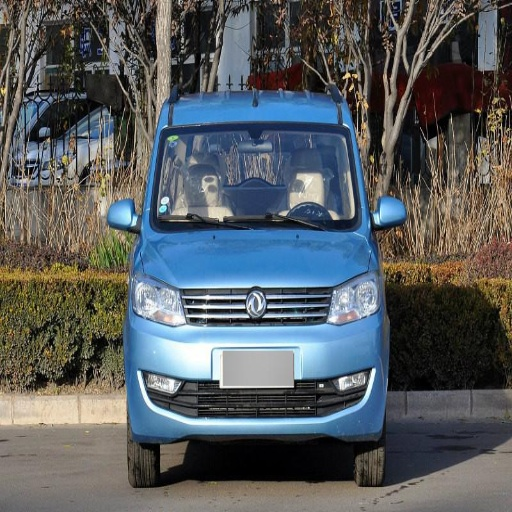front_bumper: (127, 287, 382, 443)
front_right_light: (130, 269, 187, 325)
hood: (142, 231, 374, 290)
